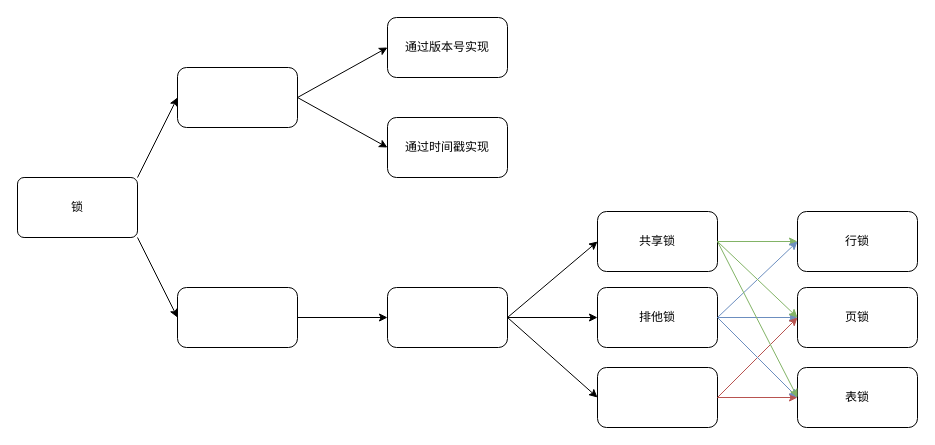
This 935x445 diagram has some shape labels left out. Here are the shapes that lost their labels. From the top down, the centre of each, then its label:
(237,97): 乐观锁
(237,317): 悲观锁
(447,317): 通过数据库自身的锁机制实现
(657,397): 意向锁
